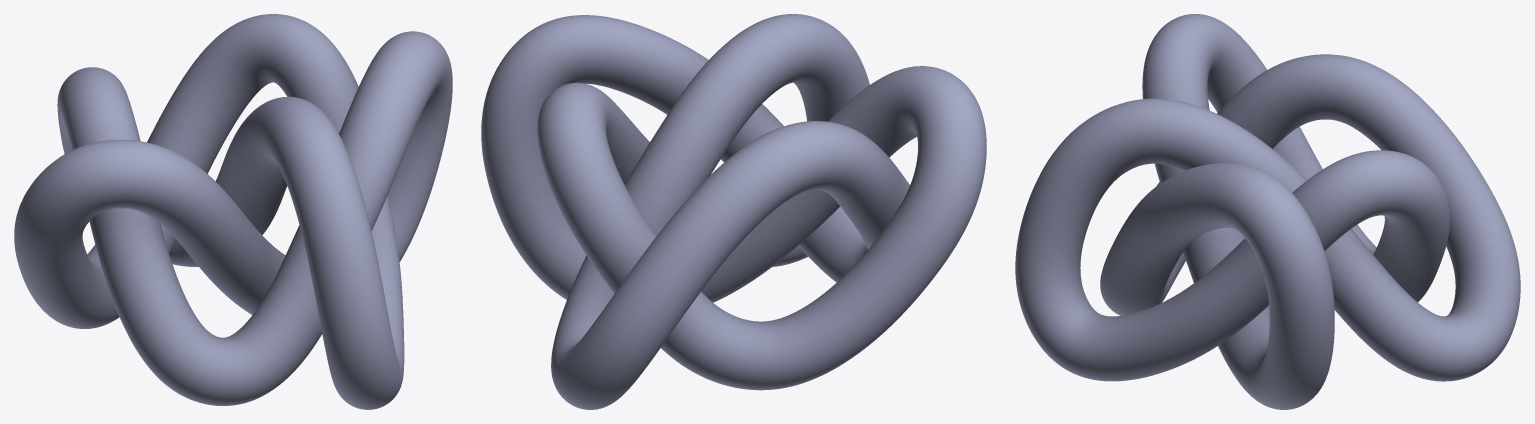
The model's file is knot-v2.glb.
3 views of the same model, side by side, from view 1: azimuth 30°, elevation 25°; view 2: azimuth 150°, elevation 25°; view 3: azimuth 270°, elevation 25° (orthographic). The views are drawn at different scales.
Parts seen in each view (by area): view 1: KnotV2_mesh; view 2: KnotV2_mesh; view 3: KnotV2_mesh.
Part boxes in pixels (<box>): KnotV2_mesh: <box>14,14,452,409</box>; KnotV2_mesh: <box>481,14,986,409</box>; KnotV2_mesh: <box>1015,14,1520,409</box>.
Size of the model in its own units: 13.06 by 7.49 by 13.18.
